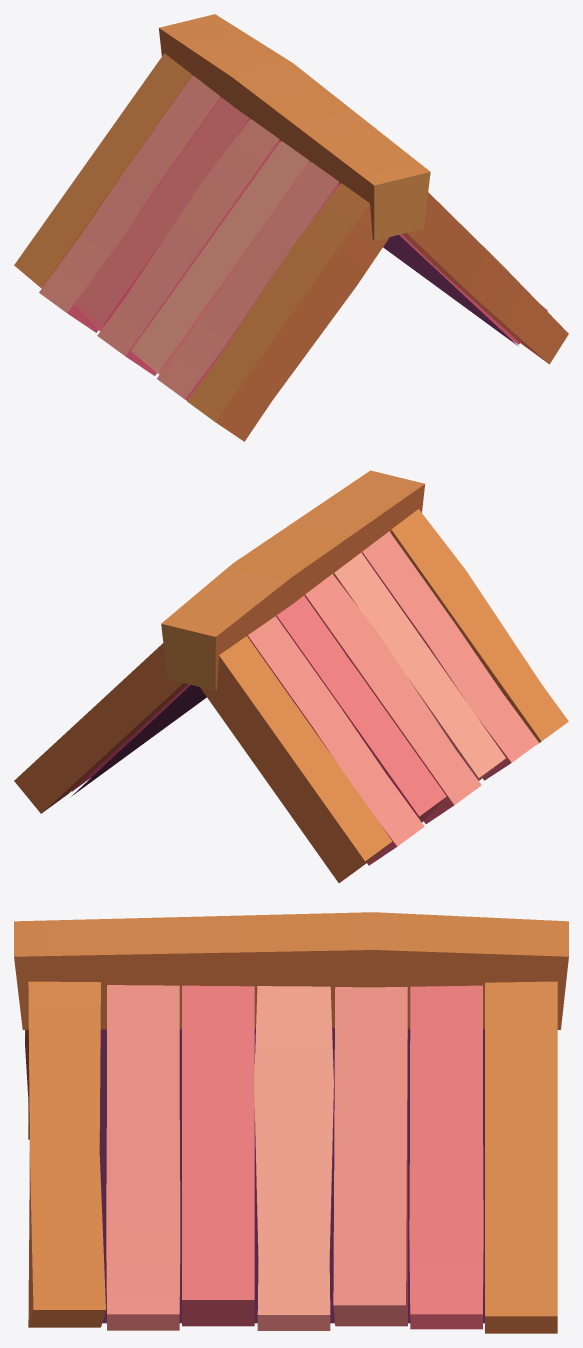
File: Roof02_Pink_Wood.glb
3 renders of one model, top to bottom at view 1: azimuth 30°, elevation 25°; view 2: azimuth 150°, elevation 25°; view 3: azimuth 270°, elevation 25°, orthographic. The views are drawn at different scales.
Visible parts, largest first — view 1: Roof02_Pink_Wood; view 2: Roof02_Pink_Wood; view 3: Roof02_Pink_Wood.
Part boxes in pixels (<box>): Roof02_Pink_Wood: <box>14,14,568,441</box>; Roof02_Pink_Wood: <box>14,470,568,882</box>; Roof02_Pink_Wood: <box>14,912,568,1333</box>.
Size of the model in its own units: 2.41 by 1.49 by 2.46.
Materials: 1 (1 with a texture image).
